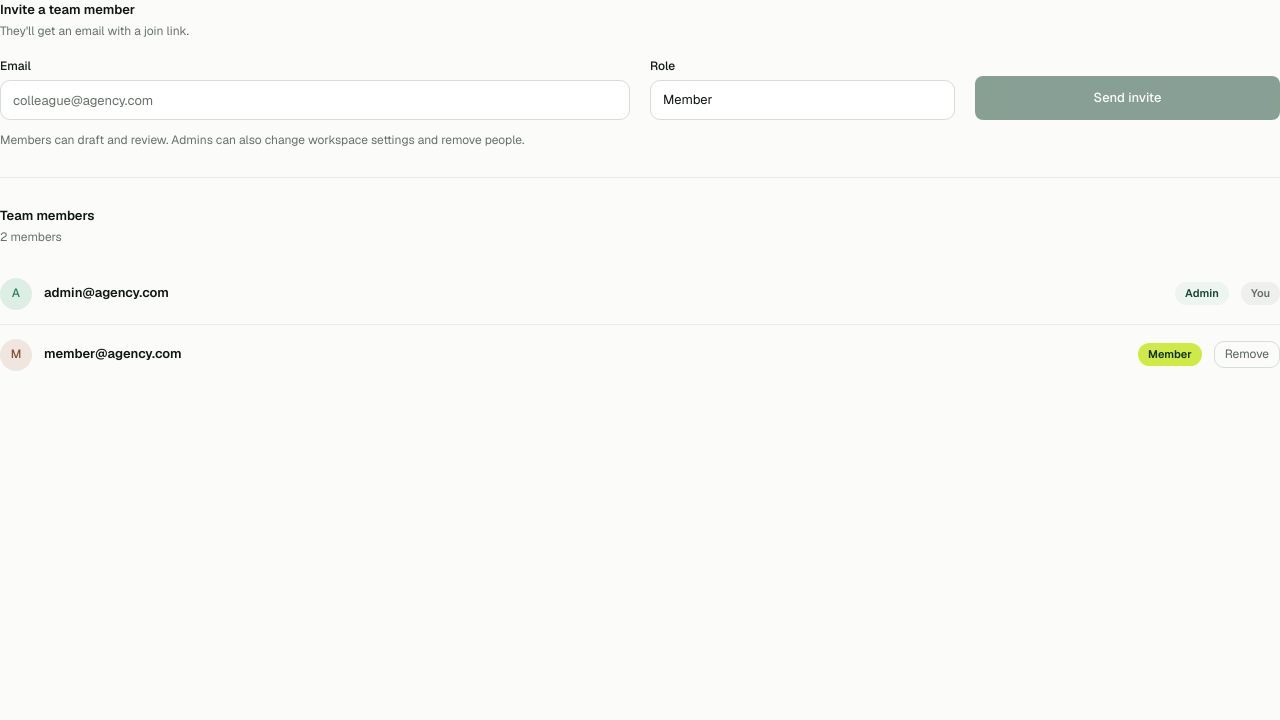
Scenario: TeamTab removal › closes the dialog and refreshes after a clean removal
Click the button "Remove": (1247, 355) x1=1214 y1=341 x2=1279 y2=368
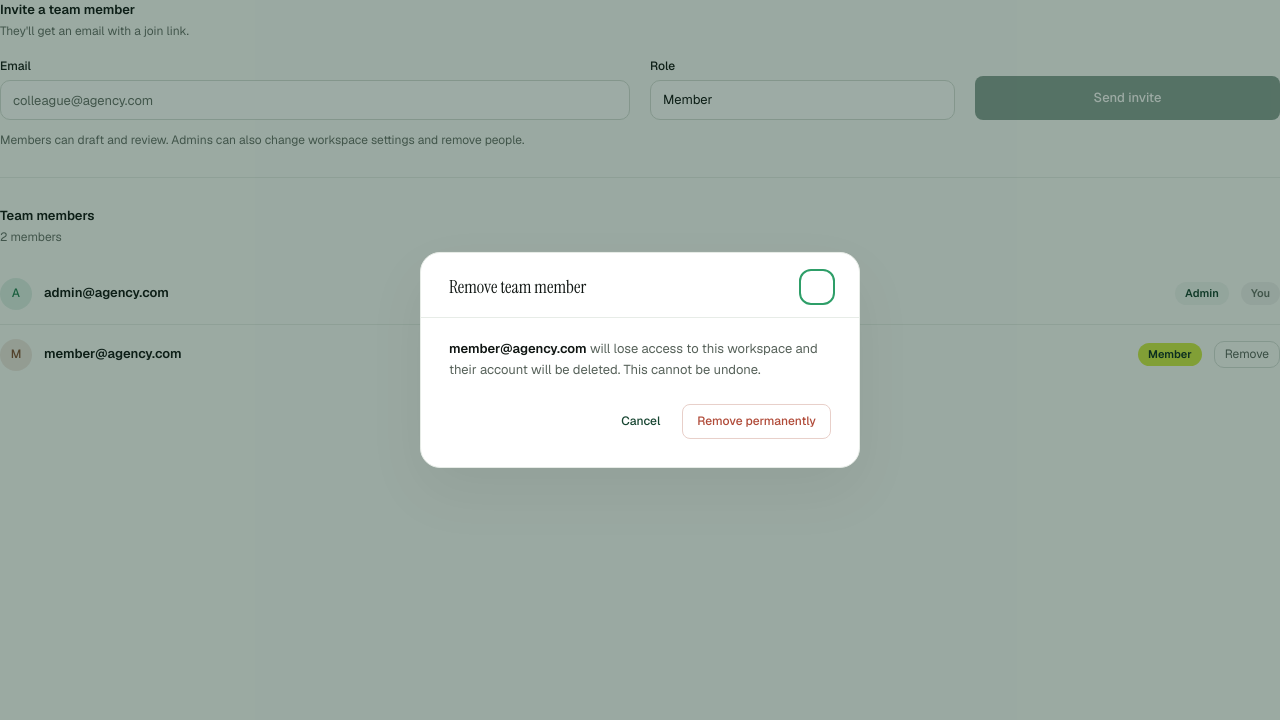
Click the button "Remove permanently": (757, 422) x1=682 y1=404 x2=831 y2=439
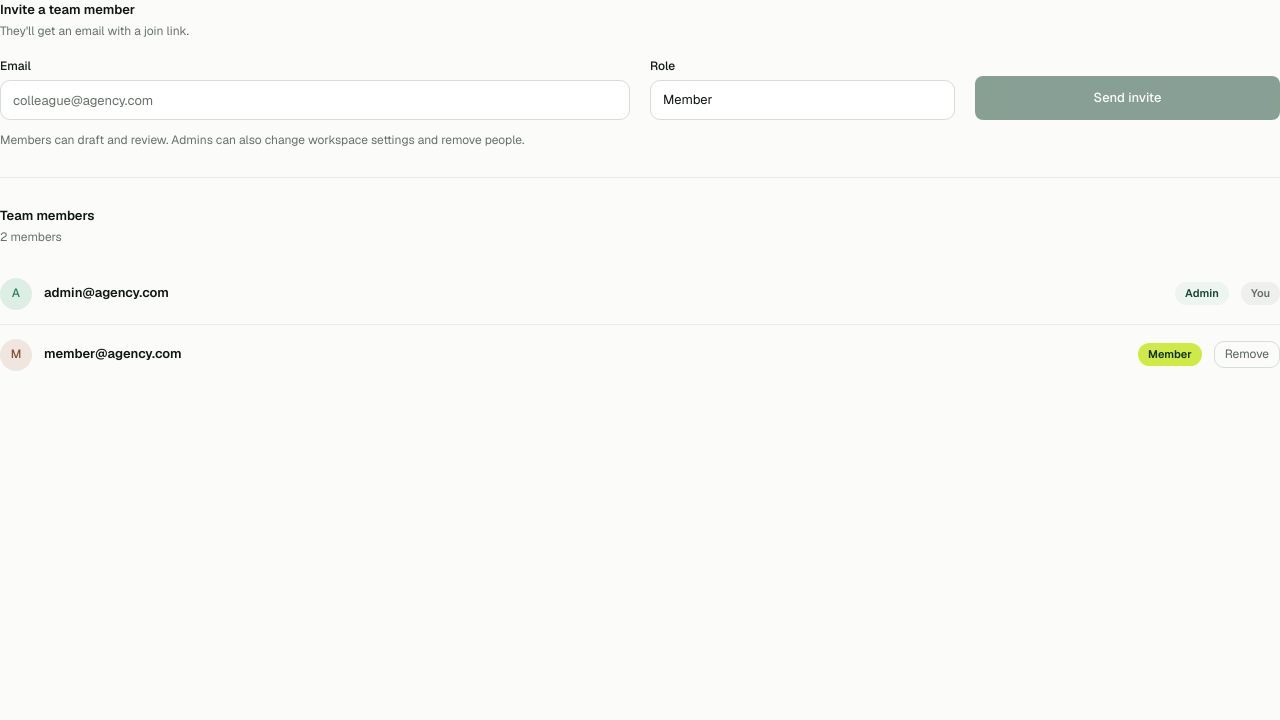
Expected: the dialog is gone
